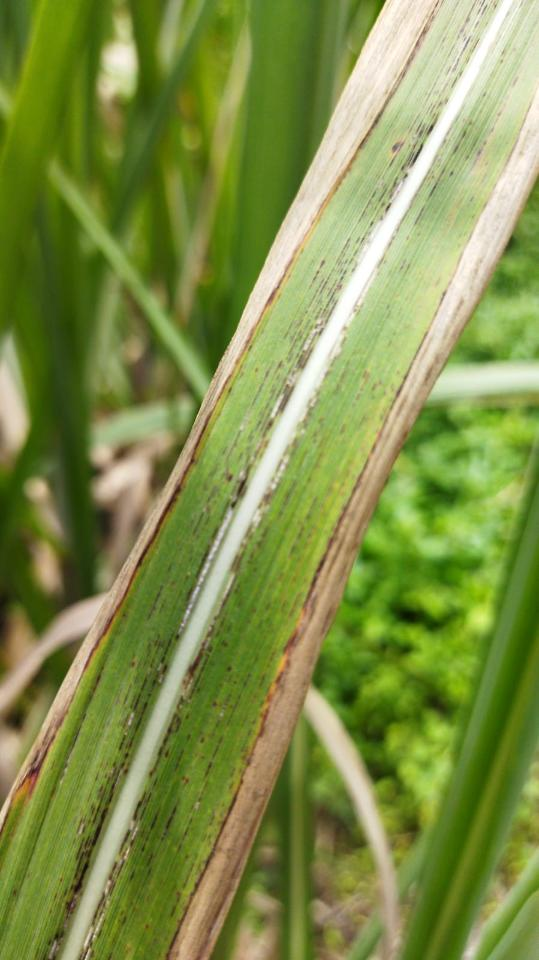Rust: (30, 0, 502, 959), (76, 26, 530, 959), (0, 0, 447, 838)
